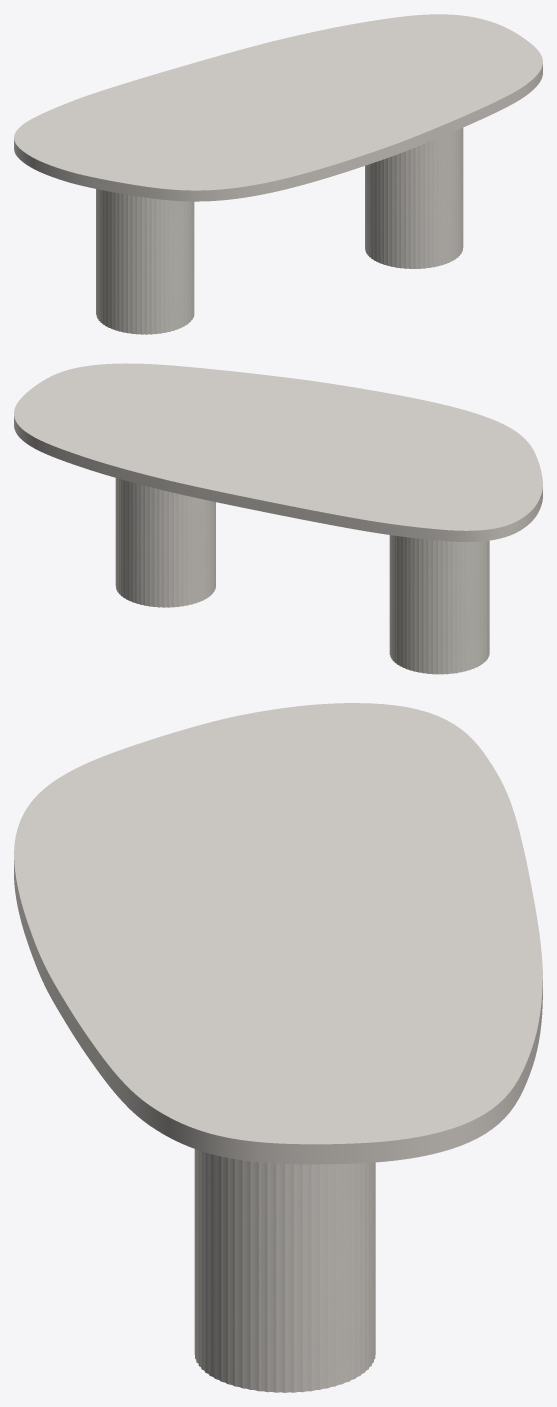
File: pearlwhite_leaf2_standard_ripplesecond.glb
3 renders of one model, top to bottom at view 1: azimuth 30°, elevation 25°; view 2: azimuth 150°, elevation 25°; view 3: azimuth 270°, elevation 25°, orthographic. The views are drawn at different scales.
Parts seen in each view (by area): view 1: standard_leaf2, ripplesecond; view 2: standard_leaf2, ripplesecond; view 3: standard_leaf2, ripplesecond.
Part boxes in pixels (<box>): standard_leaf2: <box>14,14,542,201</box>; ripplesecond: <box>96,128,463,334</box>; standard_leaf2: <box>14,363,542,541</box>; ripplesecond: <box>115,478,489,674</box>; standard_leaf2: <box>14,703,542,1164</box>; ripplesecond: <box>194,1149,375,1392</box>.
Bounding box in the file's own units: 7.5 × 2.52 × 3.8.
Materials: 2 (2 with a texture image).
